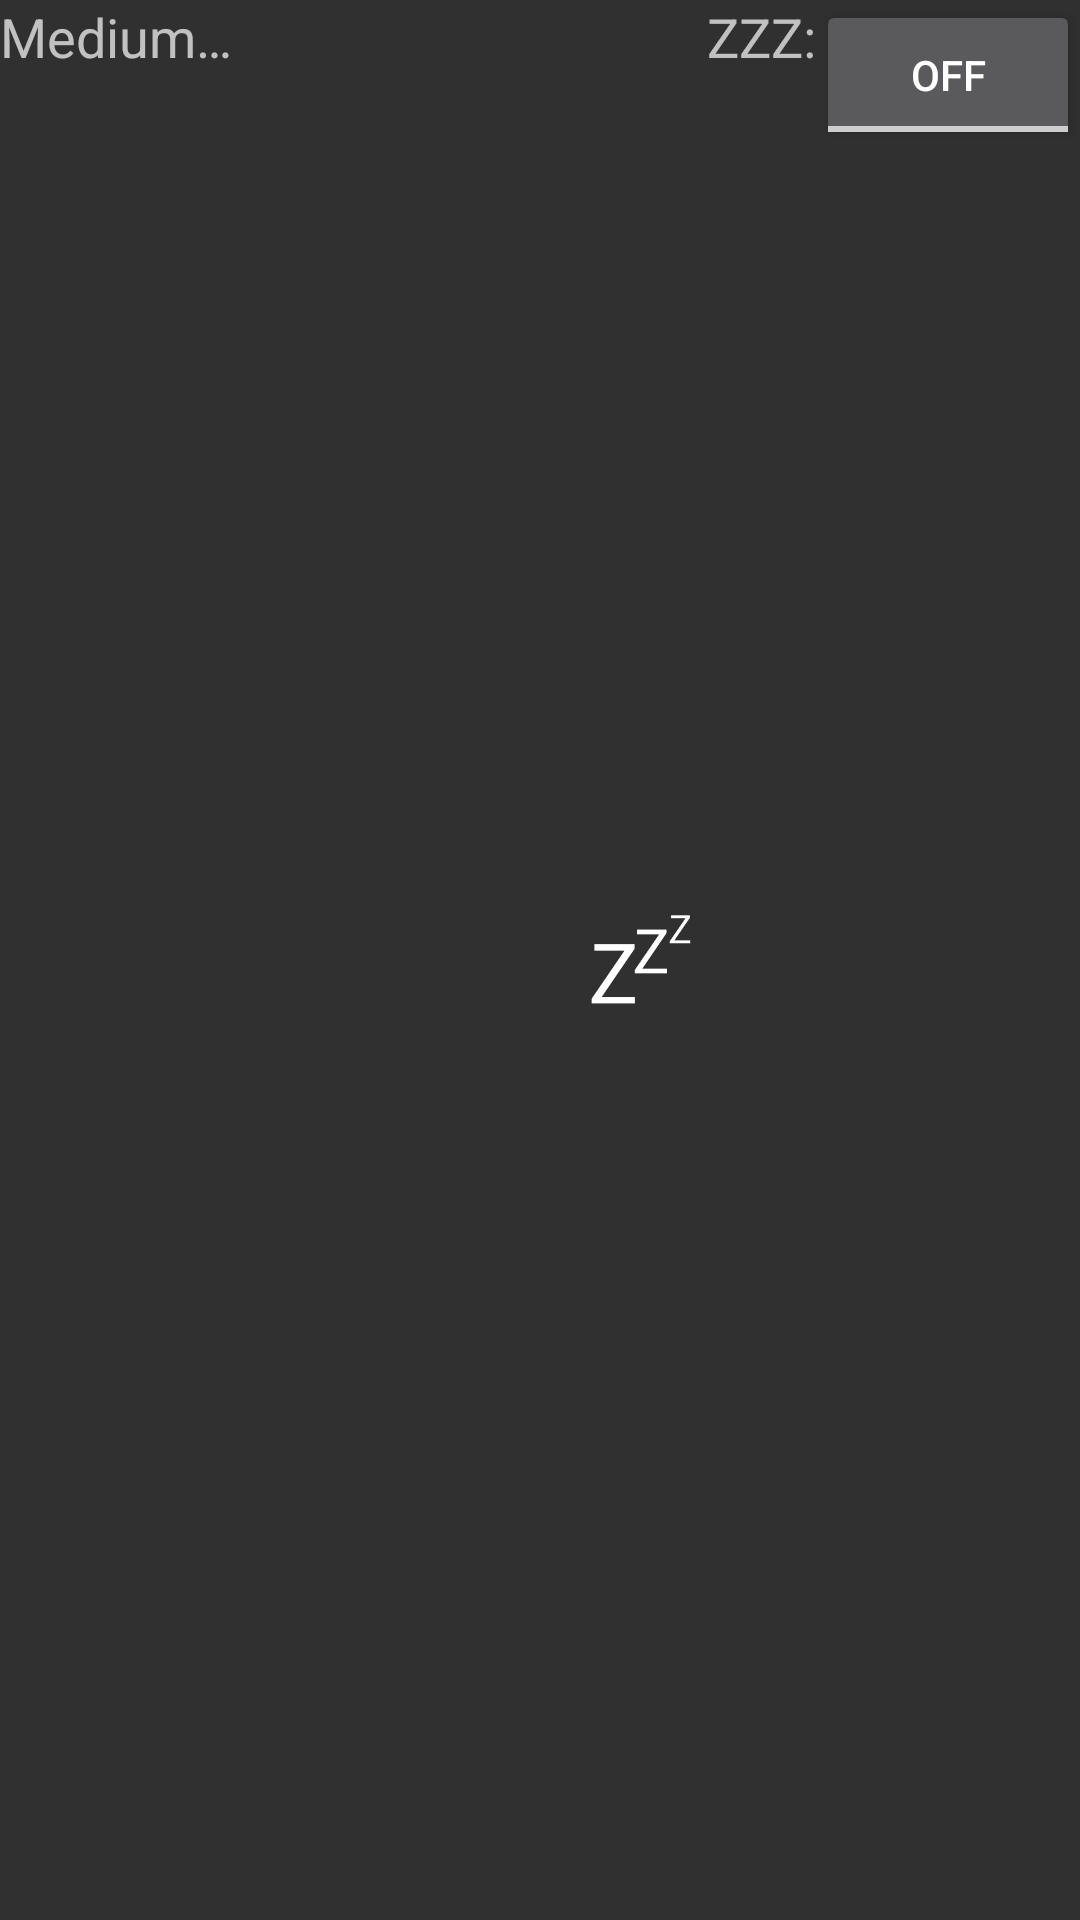

Screen size 1080 x 1920. Icon name, then its center in pixels as (x=x, y=y):
snooze: (x=641, y=959)
